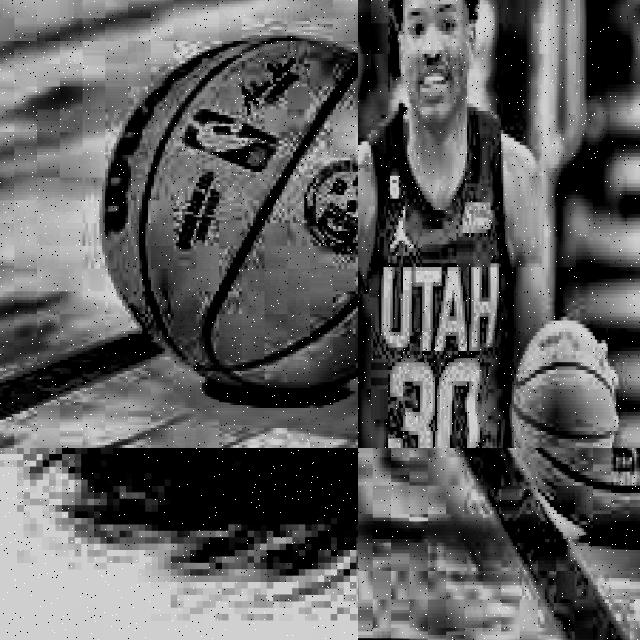Basketball: (105, 38, 358, 394), (514, 321, 621, 448)
